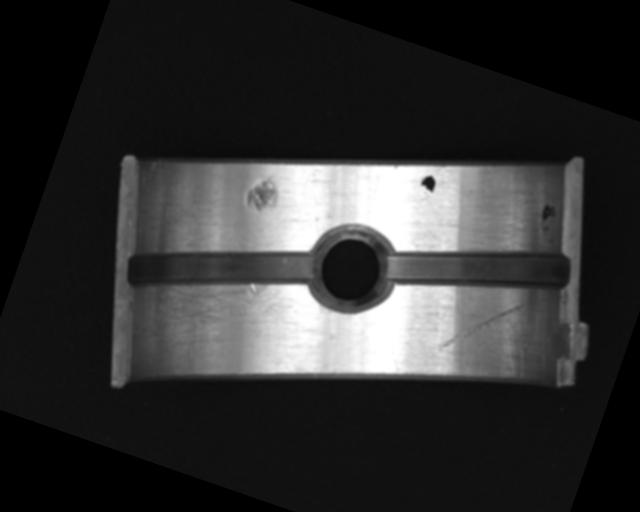blot: (534, 201, 560, 235), (416, 172, 439, 201)
bruise: (242, 167, 287, 217)
gap: (122, 198, 319, 341), (381, 201, 576, 336)
hole: (301, 215, 402, 321)
nick: (436, 282, 524, 374)
scratch: (129, 241, 298, 382)
